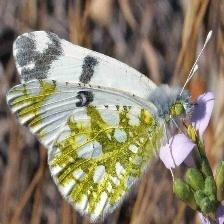butterfly: (6, 30, 190, 224)
